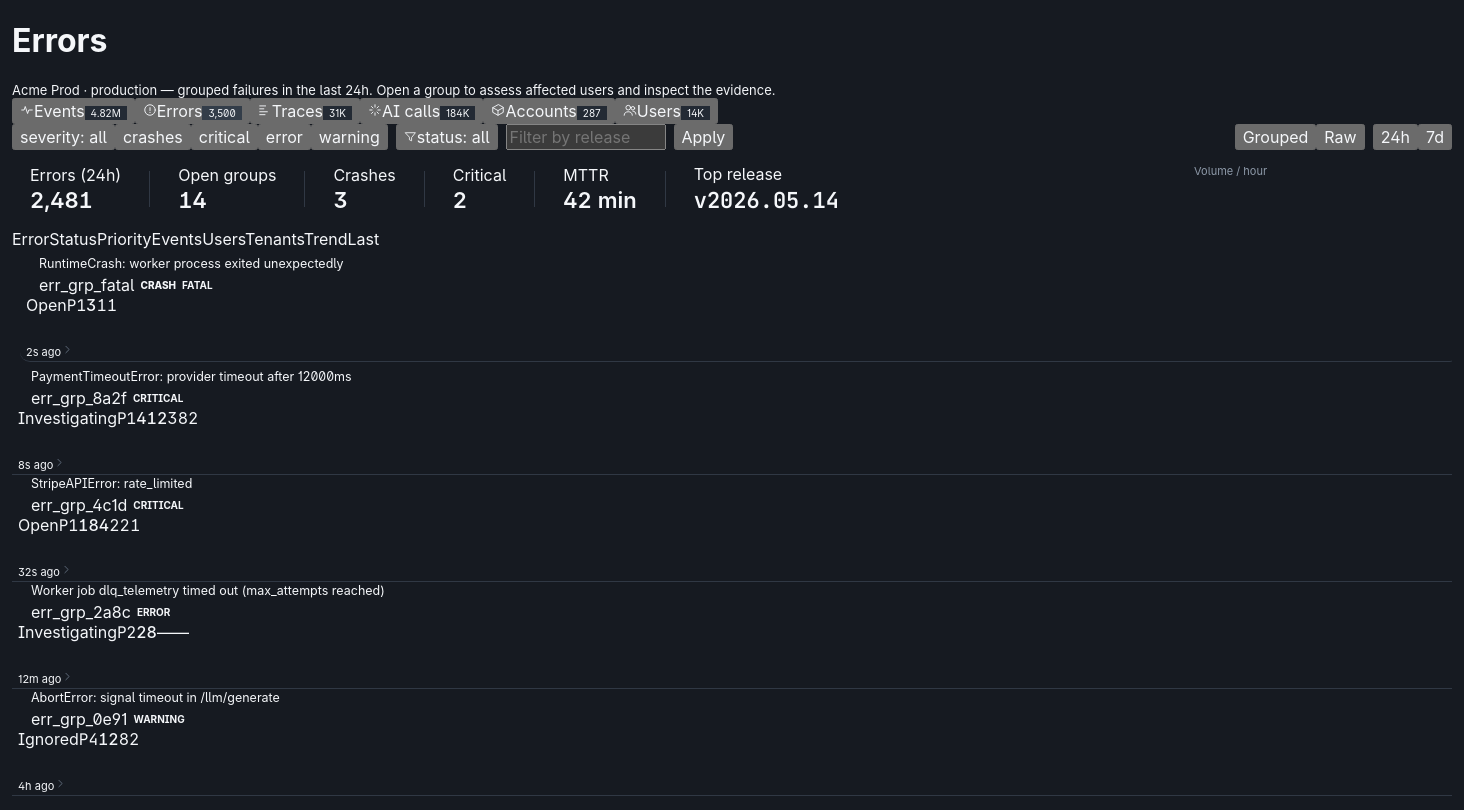
it: ErrorsScreen › status filter › opens a menu with All/Open/Investigating/Resolved/Ignored options
This screenshot has width=1464, height=810.
Click the button "status: all": (447, 137) [396,124,498,150]
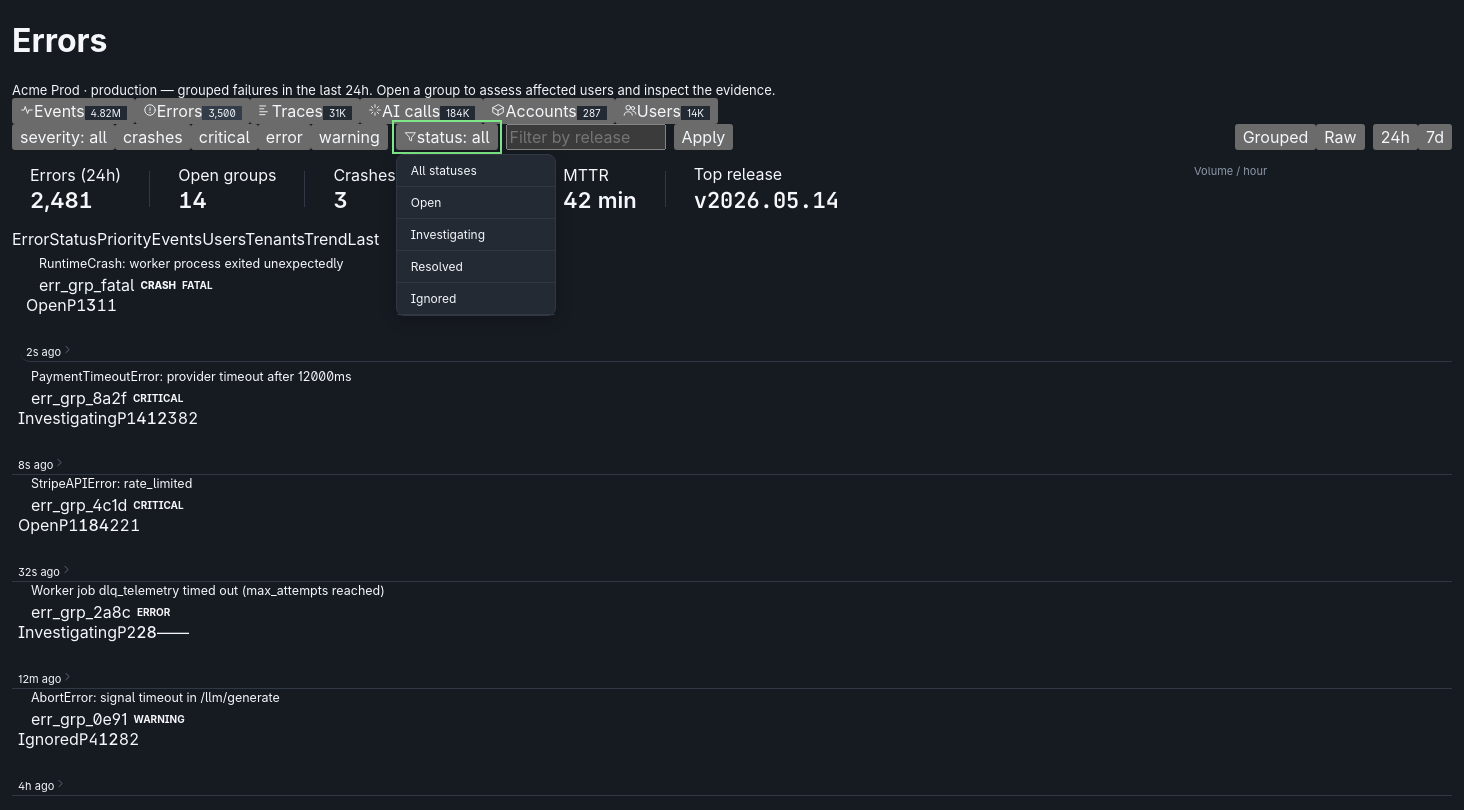
Now the button "All statuses" is shown, box [397,155,555,187]
Now the button "Open" is shown, box [397,187,555,219]
Now the button "Investigating" is shown, box [397,219,555,251]
